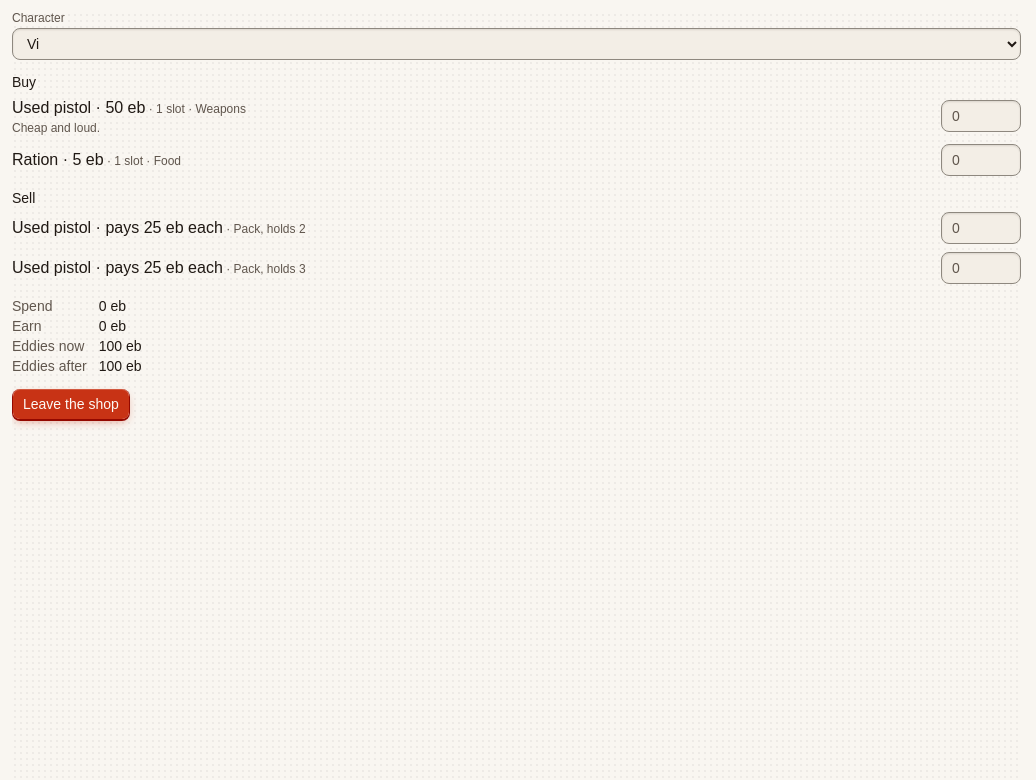
Test: ShopStepForm balance rules › says why a quantity typed on a later duplicate stack is not sold
Type "1" into the number field named "Sell Used pistol from Pack" at coordinates (981, 228), box [941,212,1021,244]
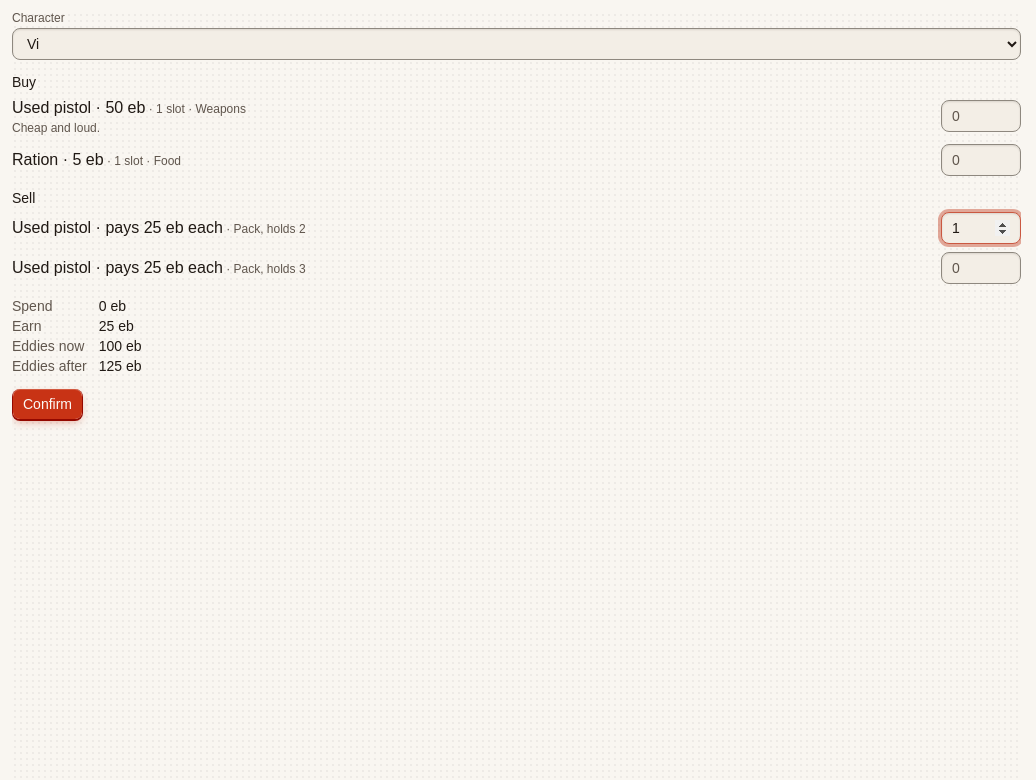
Type "1" into the number field named "Sell Used pistol from Pack" at coordinates (981, 268), box [941,252,1021,284]
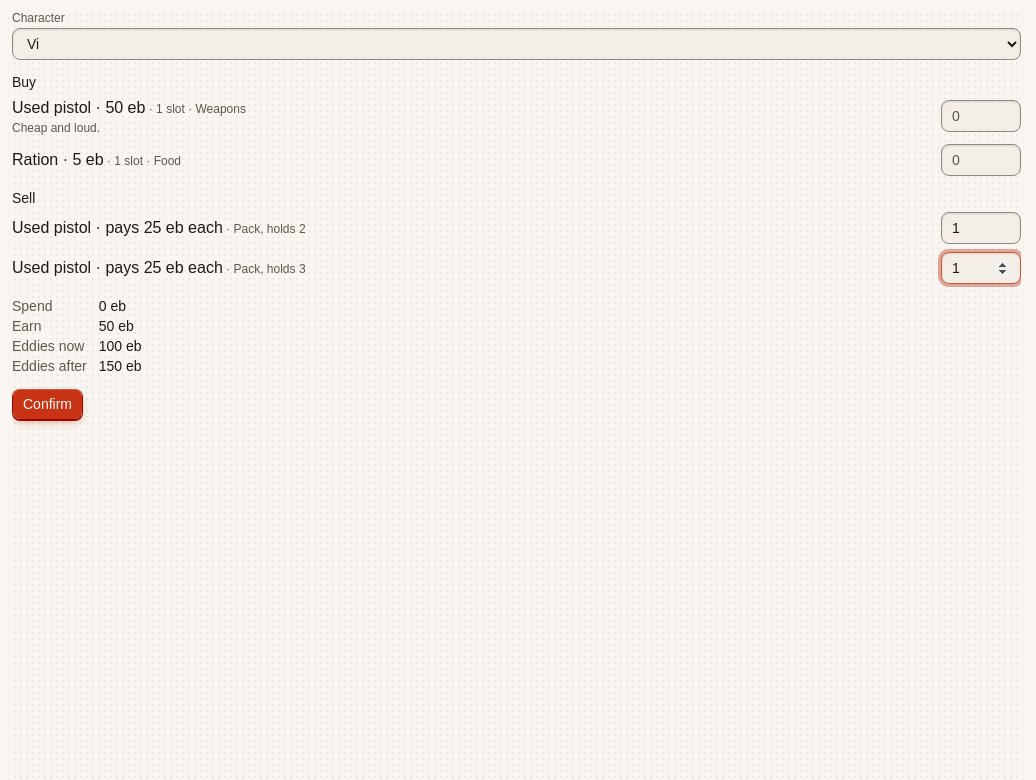
expect the text "can be sold" is not shown: met
Replace the text in the 1st number field named "Sell Used pistol from Pack" with "2" at coordinates (981, 228), box [941,212,1021,244]
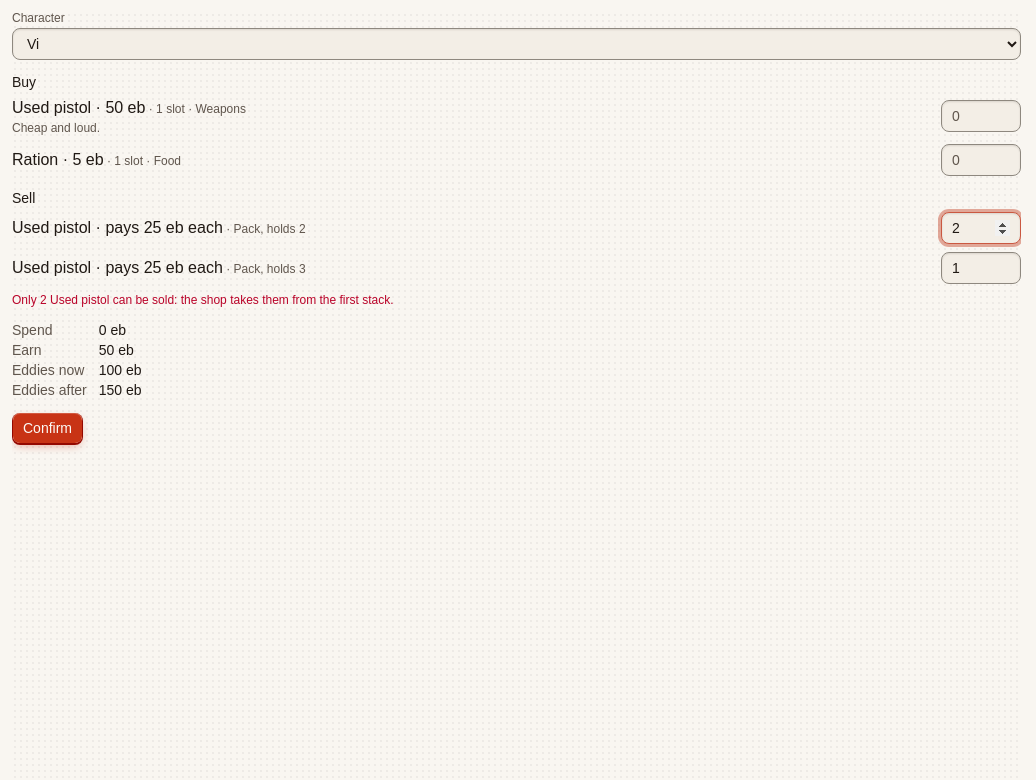
expect the text "Only 2 Used pistol can be sold" is shown: met, box [12,293,394,307]
